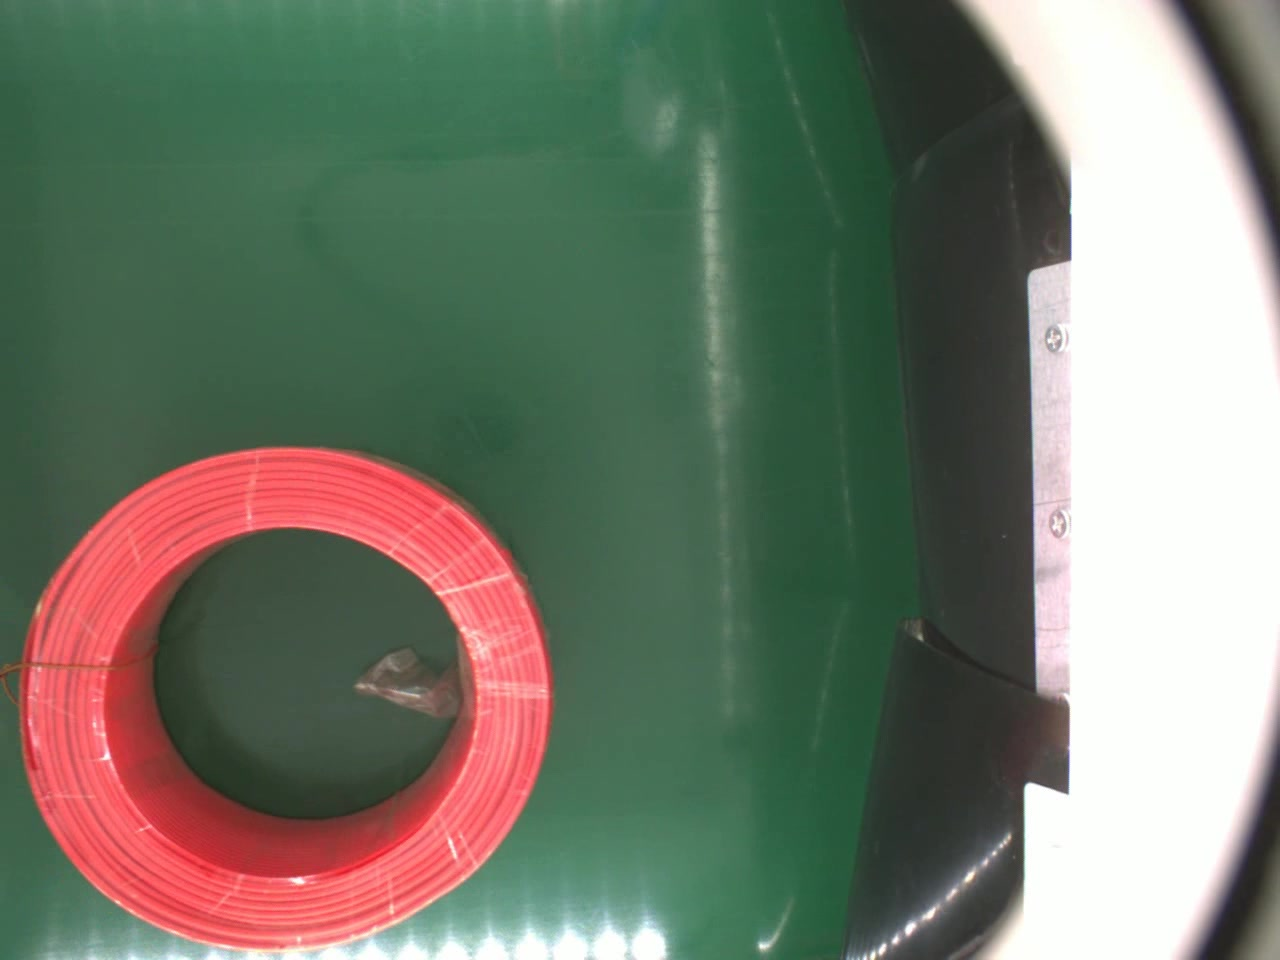red: (13, 444, 552, 951)
